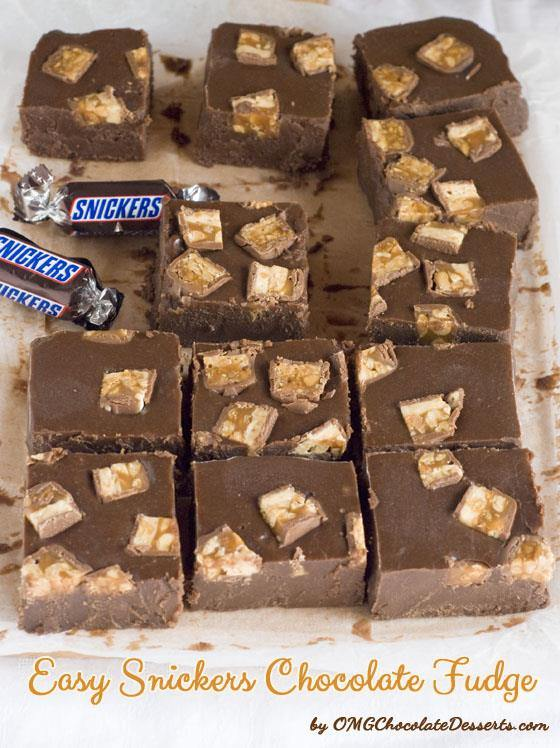snickers: (0, 235, 77, 278), (0, 279, 59, 317), (71, 196, 162, 219)
